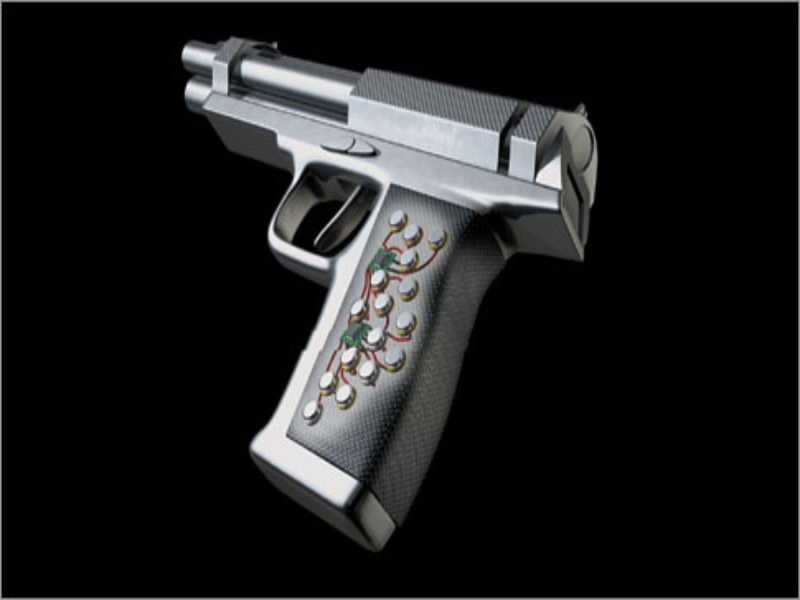gun: (163, 30, 610, 551)
